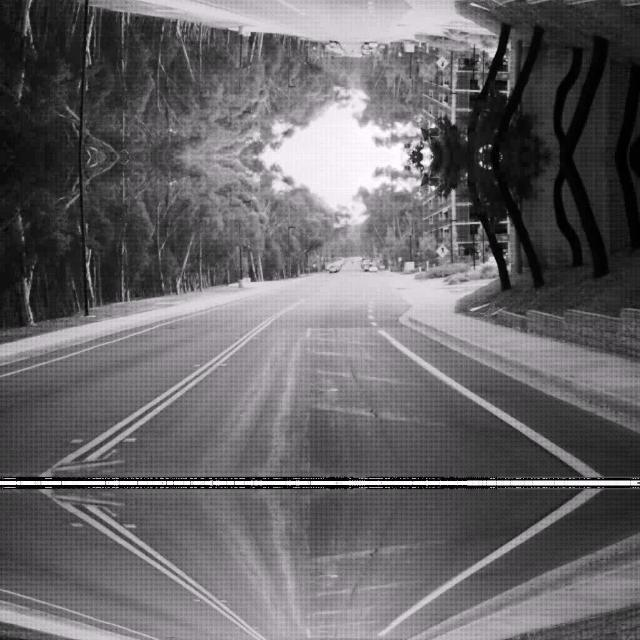pedestrianCrossing: (435, 242, 449, 256), (435, 56, 449, 70)
